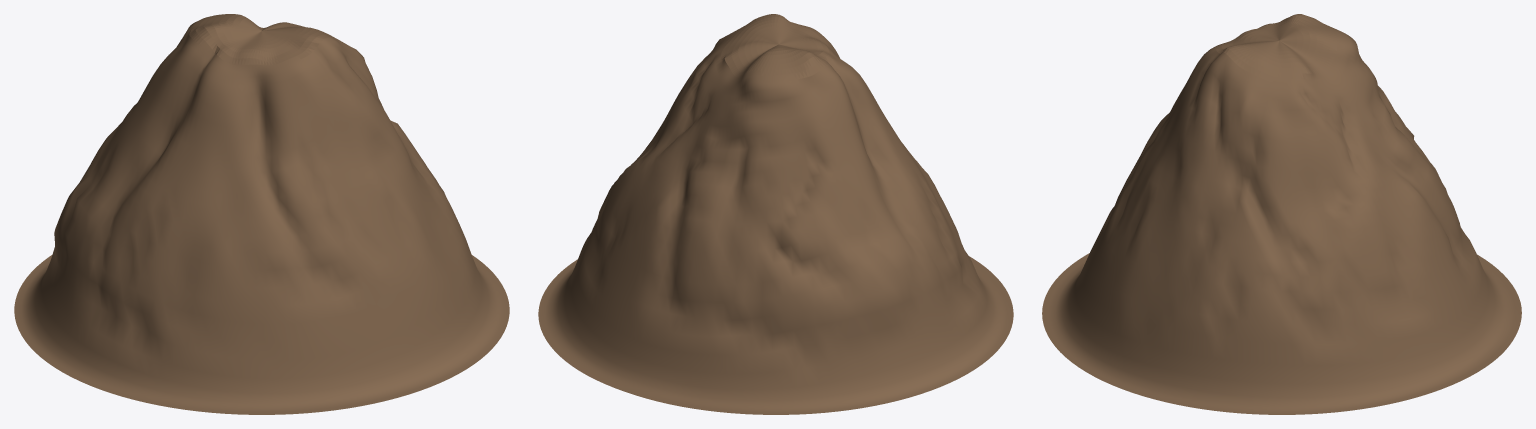
The model's file is mountain-v5.glb.
The picture shows the model from 3 angles, left to right: view 1: azimuth 30°, elevation 25°; view 2: azimuth 150°, elevation 25°; view 3: azimuth 270°, elevation 25°; orthographic projection. The views are drawn at different scales.
Parts seen in each view (by area): view 1: hill_v4_6; view 2: hill_v4_6; view 3: hill_v4_6.
Part boxes in pixels (x1,y1,x2,y2): hill_v4_6: (14,14,509,414); hill_v4_6: (538,14,1013,414); hill_v4_6: (1042,14,1521,414).
Size of the model in its own units: 2 by 1.28 by 2.
